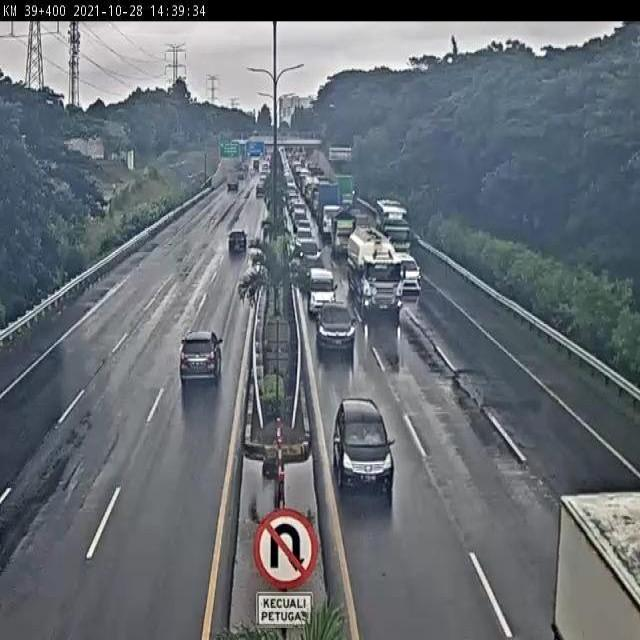big bus: (378, 196, 416, 248)
big truck: (343, 222, 401, 322)
car: (328, 392, 396, 497), (172, 318, 226, 398), (311, 296, 357, 353), (305, 260, 331, 305), (399, 256, 425, 296), (222, 227, 252, 256), (296, 240, 326, 263)
small truck: (541, 481, 640, 640)
